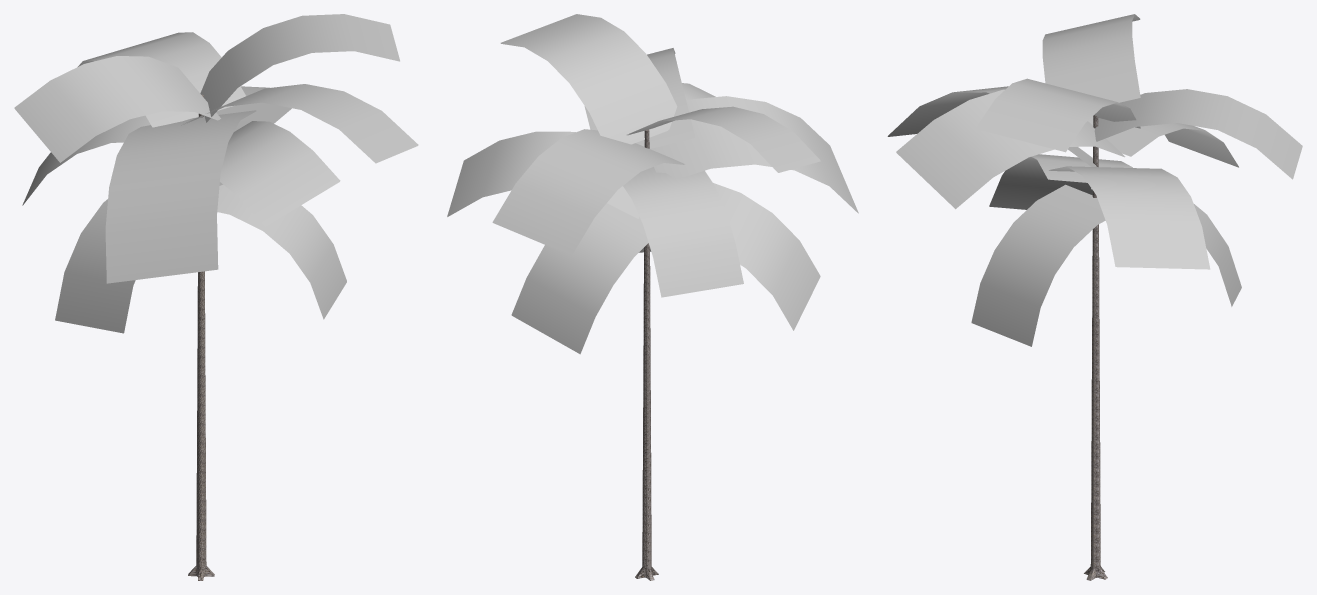
File: Palm.fbx
3 views of the same model, side by side, from view 1: azimuth 30°, elevation 25°; view 2: azimuth 150°, elevation 25°; view 3: azimuth 270°, elevation 25° (orthographic). The views are drawn at different scales.
Parts seen in each view (by area): view 1: Palm; view 2: Palm; view 3: Palm.
Part boxes in pixels (x1,y1,x2,y2): Palm: (14, 14, 418, 580); Palm: (447, 14, 858, 580); Palm: (887, 14, 1302, 580).
Size of the model in its own units: 3908 by 5721 by 4105.
